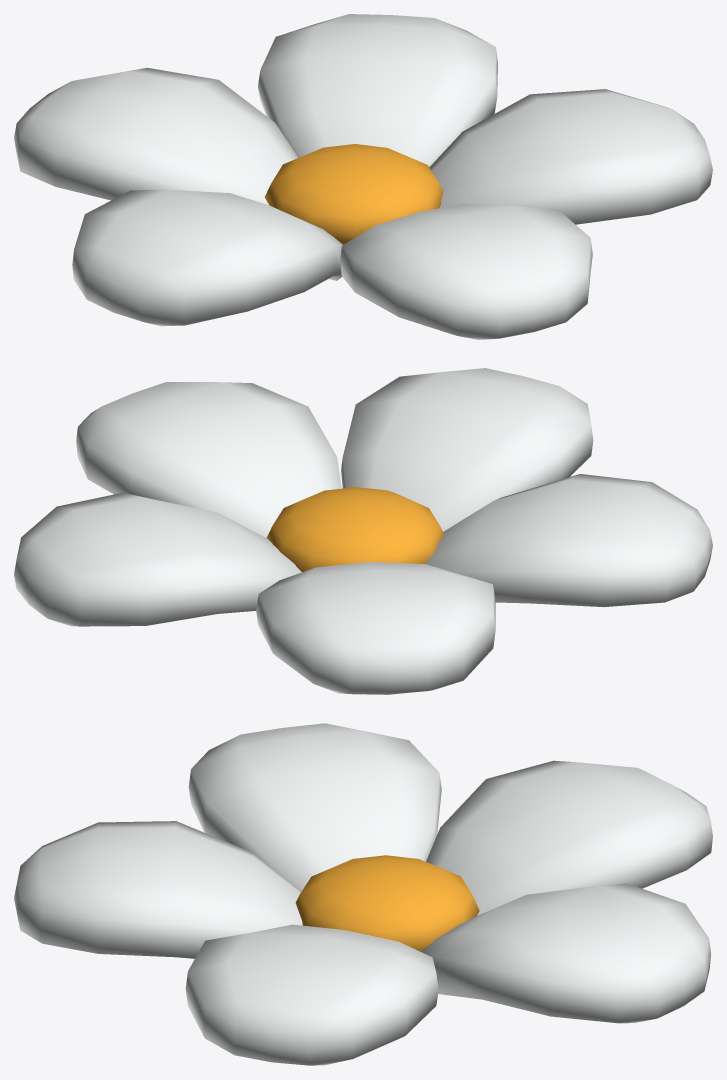
File: flower.glb
3 views of the same model, one above another, from view 1: azimuth 30°, elevation 25°; view 2: azimuth 150°, elevation 25°; view 3: azimuth 270°, elevation 25° (orthographic). The views are drawn at different scales.
Parts seen in each view (by area): view 1: Cube.045; view 2: Cube.045; view 3: Cube.045.
Boxes of the visible parts, <box> form: Cube.045: <box>14,14,712,339</box>; Cube.045: <box>14,368,712,694</box>; Cube.045: <box>14,723,712,1065</box>.
Bounding box in the file's own units: 0.2563 × 0.0483 × 0.2466.
1 material, 1 textured.
